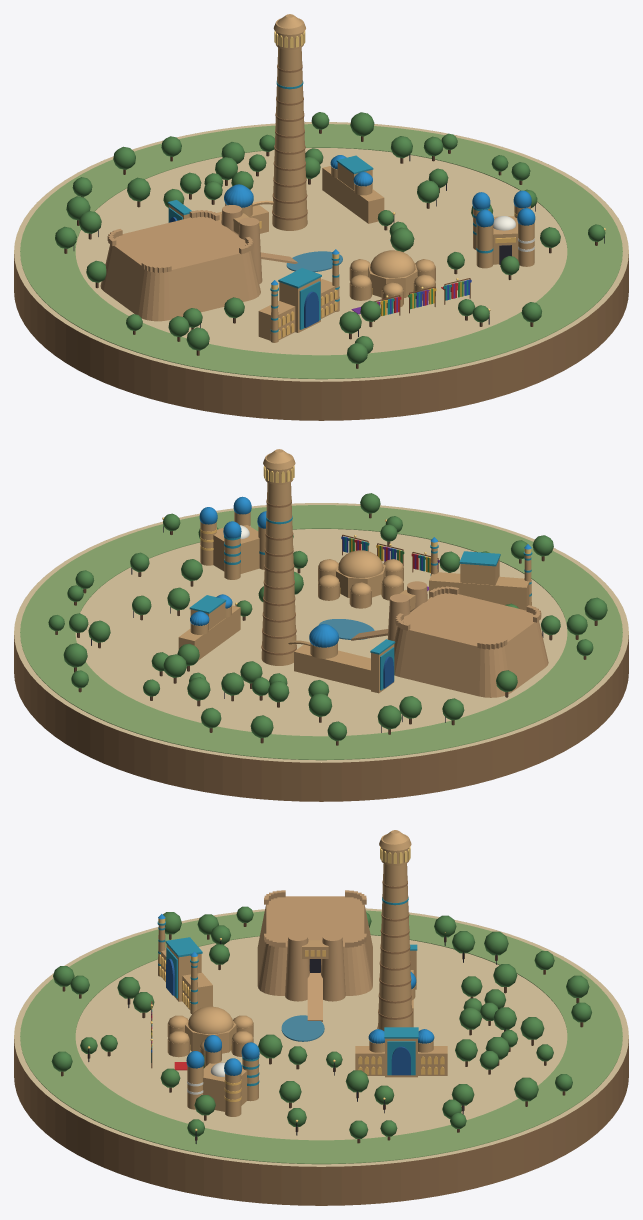
Rendered from bukhara.glb.
3 views of the same model, one above another, from view 1: azimuth 30°, elevation 25°; view 2: azimuth 150°, elevation 25°; view 3: azimuth 270°, elevation 25° (orthographic).
Parts seen in each view (by area): view 1: DECO-base, DECO-rim-grass, DECO-trees, ark-walls, km-shaft, mir-facade, ub-facade, td-dome, DECO-pool, ark-gate-tower--1, cm-tower-0, ub-portal-block (+3 smaller); view 2: DECO-base, DECO-rim-grass, DECO-trees, ark-walls, km-shaft, kal-wall, ub-facade, mir-facade, cm-block, td-dome, ub-portal-block, td-octagon (+6 smaller); view 3: DECO-base, DECO-rim-grass, DECO-trees, ark-walls, km-shaft, ark-gate-tower--1, ark-gate-tower-1, mir-facade, td-dome, cm-block, DECO-pool, ark-ramp (+5 smaller).
Part boxes in pixels (<box>): DECO-base: <box>14,122,628,420</box>; DECO-rim-grass: <box>20,124,622,379</box>; DECO-trees: <box>55,112,605,368</box>; ark-walls: <box>100,216,260,321</box>; km-shaft: <box>272,47,307,230</box>; mir-facade: <box>322,166,384,223</box>; ub-facade: <box>258,279,335,340</box>; td-dome: <box>370,250,415,277</box>; DECO-pool: <box>286,251,342,272</box>; ark-gate-tower--1: <box>238,217,262,283</box>; cm-tower-0: <box>476,224,493,268</box>; ub-portal-block: <box>279,277,320,332</box>; DECO-base: <box>14,503,628,801</box>; DECO-rim-grass: <box>20,505,622,760</box>; DECO-trees: <box>48,493,607,745</box>; ark-walls: <box>394,593,548,697</box>; km-shaft: <box>261,482,296,665</box>; kal-wall: <box>294,644,370,689</box>; ub-facade: <box>429,572,529,610</box>; mir-facade: <box>178,605,240,660</box>; cm-block: <box>213,525,259,573</box>; td-dome: <box>338,550,383,577</box>; ub-portal-block: <box>460,558,499,585</box>; td-octagon: <box>336,563,385,597</box>; DECO-base: <box>14,908,628,1205</box>; DECO-rim-grass: <box>20,910,622,1164</box>; DECO-trees: <box>51,906,591,1143</box>; ark-walls: <box>257,896,372,995</box>; km-shaft: <box>378,863,412,1030</box>; ark-gate-tower--1: <box>285,932,309,1001</box>; ark-gate-tower-1: <box>320,932,345,1001</box>; mir-facade: <box>355,1046,447,1075</box>; td-dome: <box>188,1006,233,1034</box>; cm-block: <box>203,1061,247,1111</box>; DECO-pool: <box>281,1015,324,1041</box>; ark-ramp: <box>307,973,322,1021</box>.
Bounding box in the file's own units: 2 × 0.8852 × 2.
